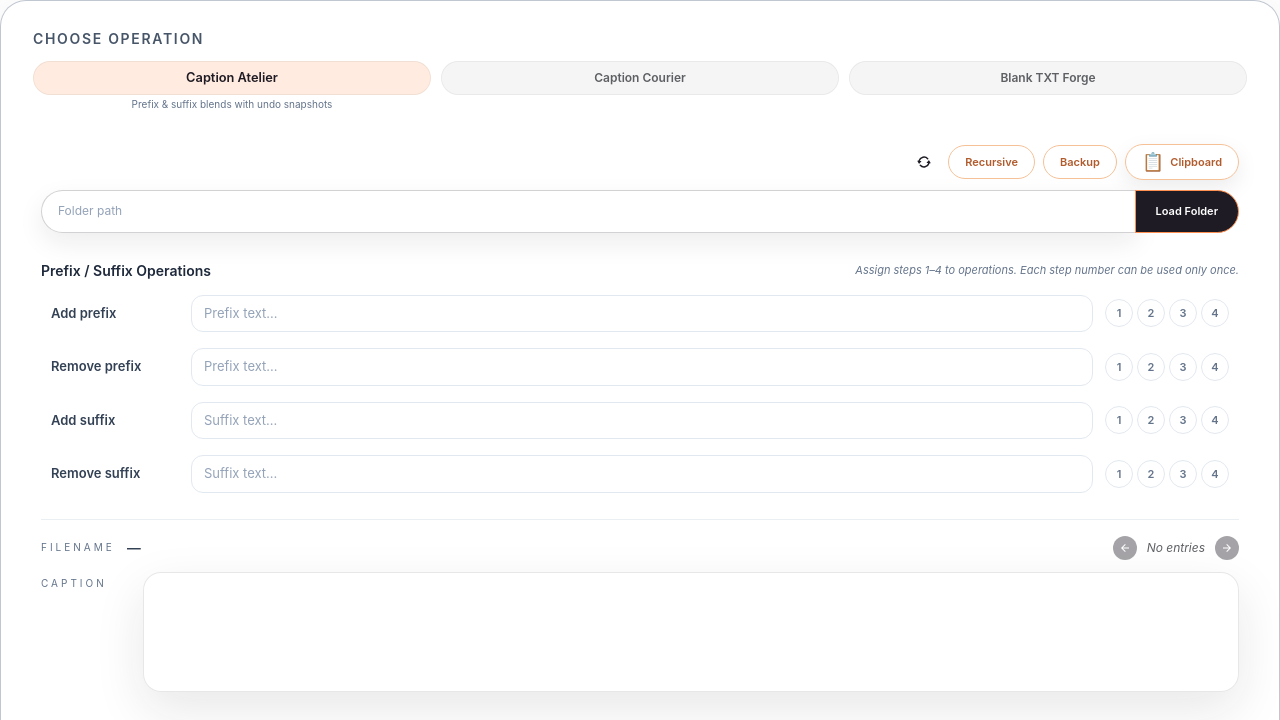
Test: DatasetActionsDashboard › runs blank txt forge with custom extension filters
Click the button "Blank TXT Forge" at (1048, 78), box x1=849 y1=61 x2=1247 y2=95
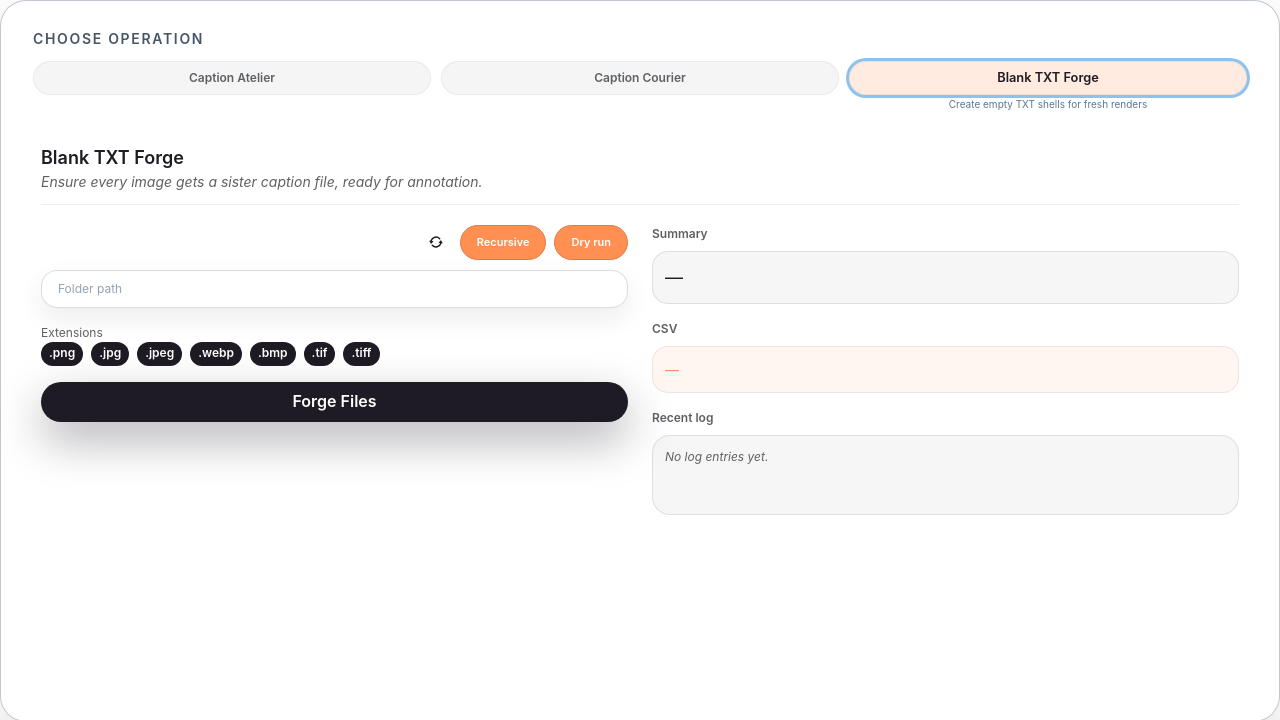
Type "D:\\Drops" into the field named "blank txt folder path" at (334, 288), box x1=41 y1=270 x2=628 y2=308
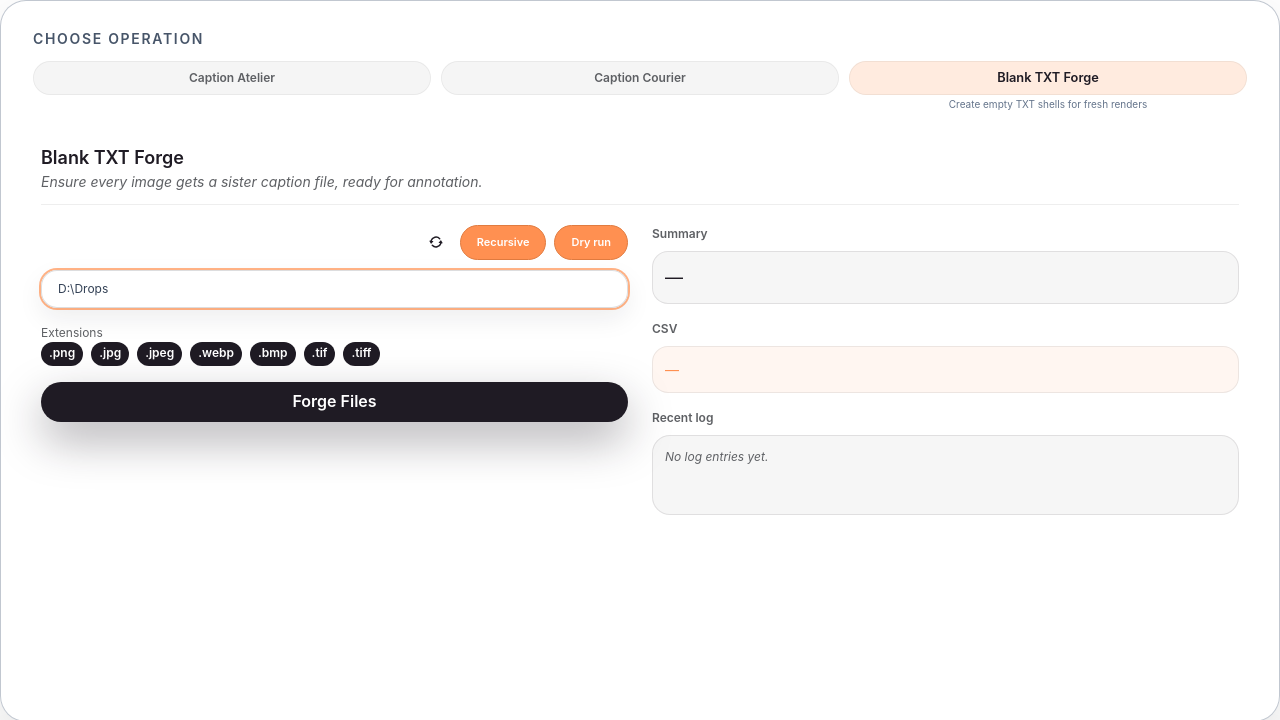
Click the button with aria-label "blank forge recursive toggle" at (503, 242), box x1=460 y1=225 x2=546 y2=260
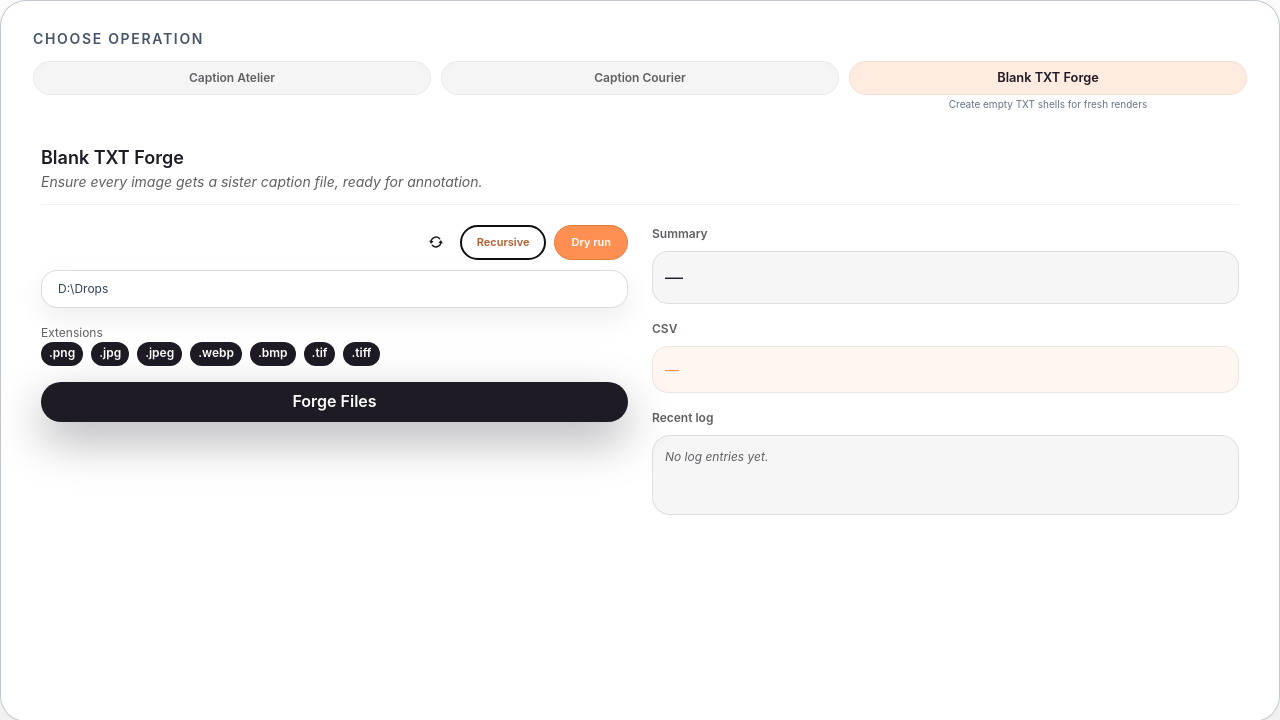
Click the button "Dry run" at (591, 242), box x1=554 y1=225 x2=628 y2=260
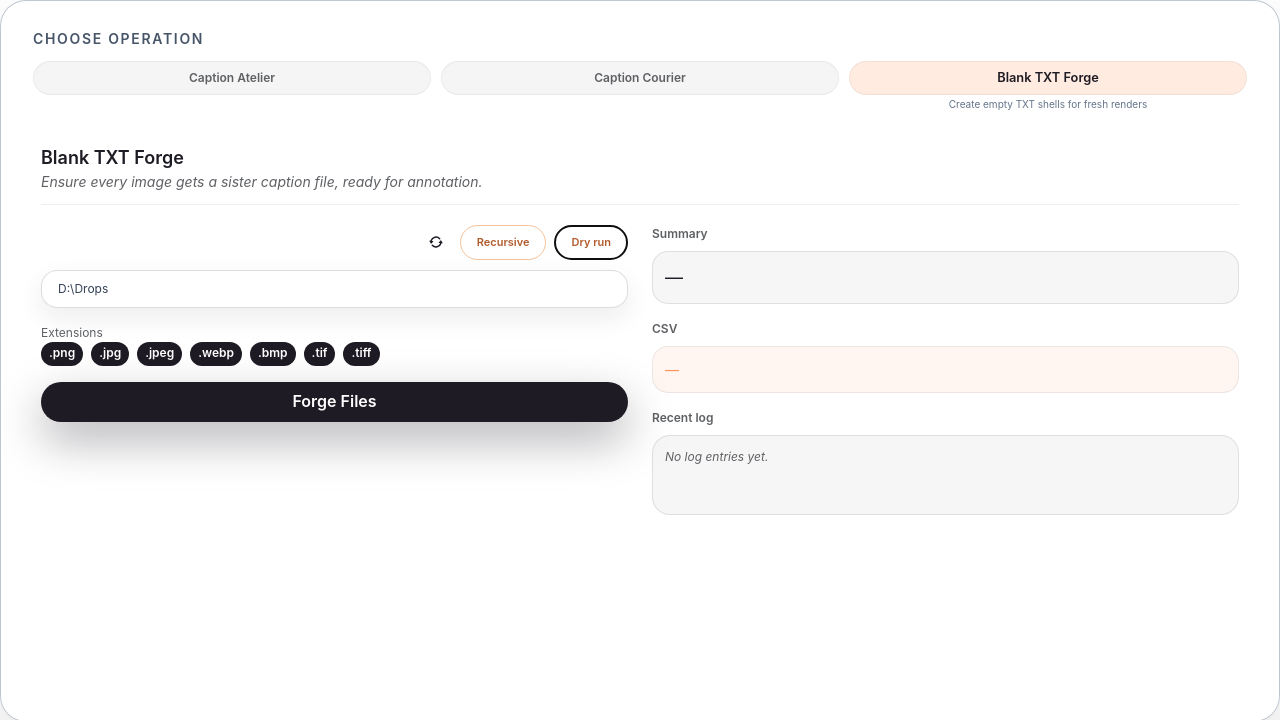
Click the button ".png" at (62, 354), box x1=41 y1=342 x2=83 y2=366
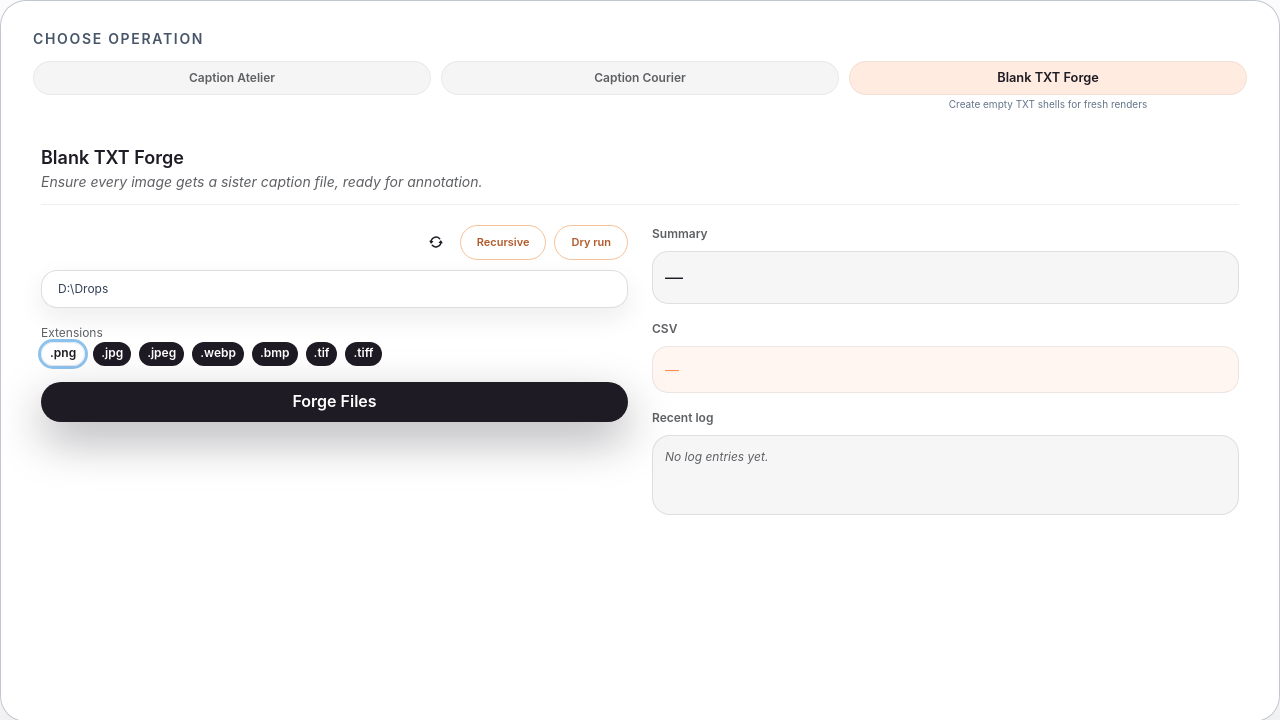
Click the button "Forge Files" at (334, 402), box x1=41 y1=382 x2=628 y2=422
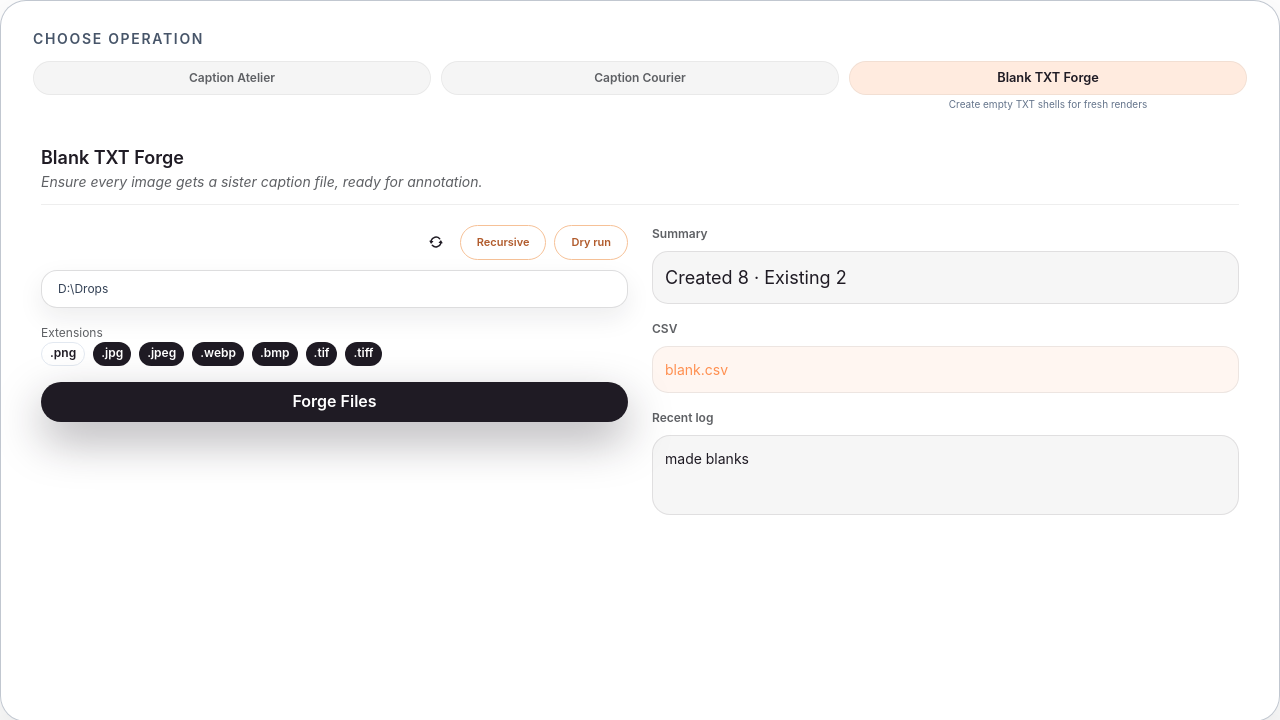
Now the text "Created 8 · Existing 2" is shown, box x1=665 y1=267 x2=847 y2=288
Now the text "blank.csv" is shown, box x1=665 y1=361 x2=728 y2=378
Now the text "made blanks" is shown, box x1=665 y1=450 x2=749 y2=467
